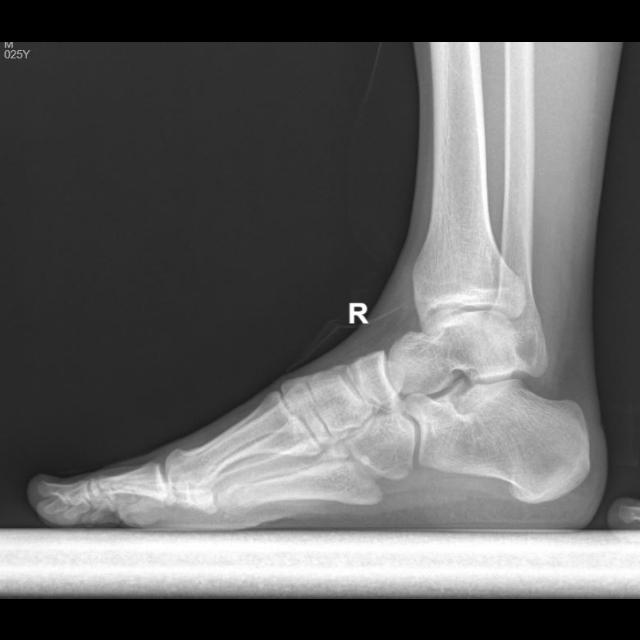a: (404, 377, 592, 504)
b: (351, 350, 400, 414)
c: (167, 388, 324, 492)
